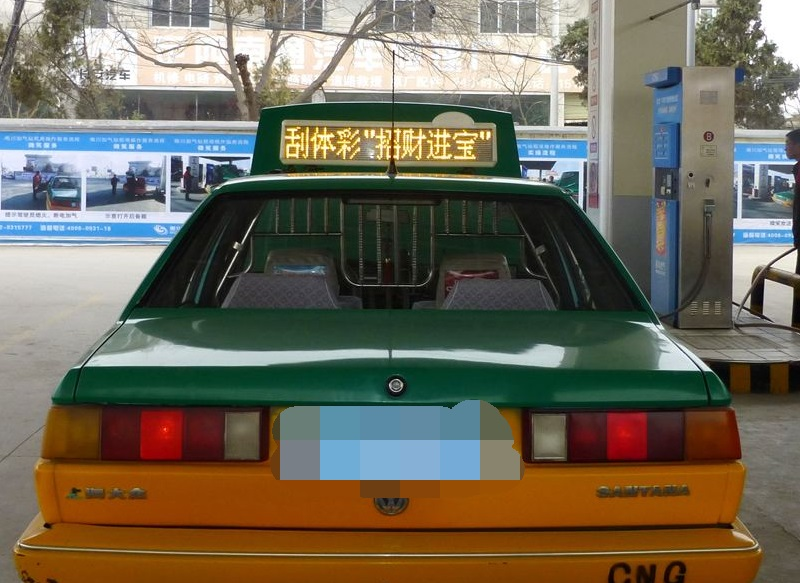taxi: (14, 99, 769, 583)
